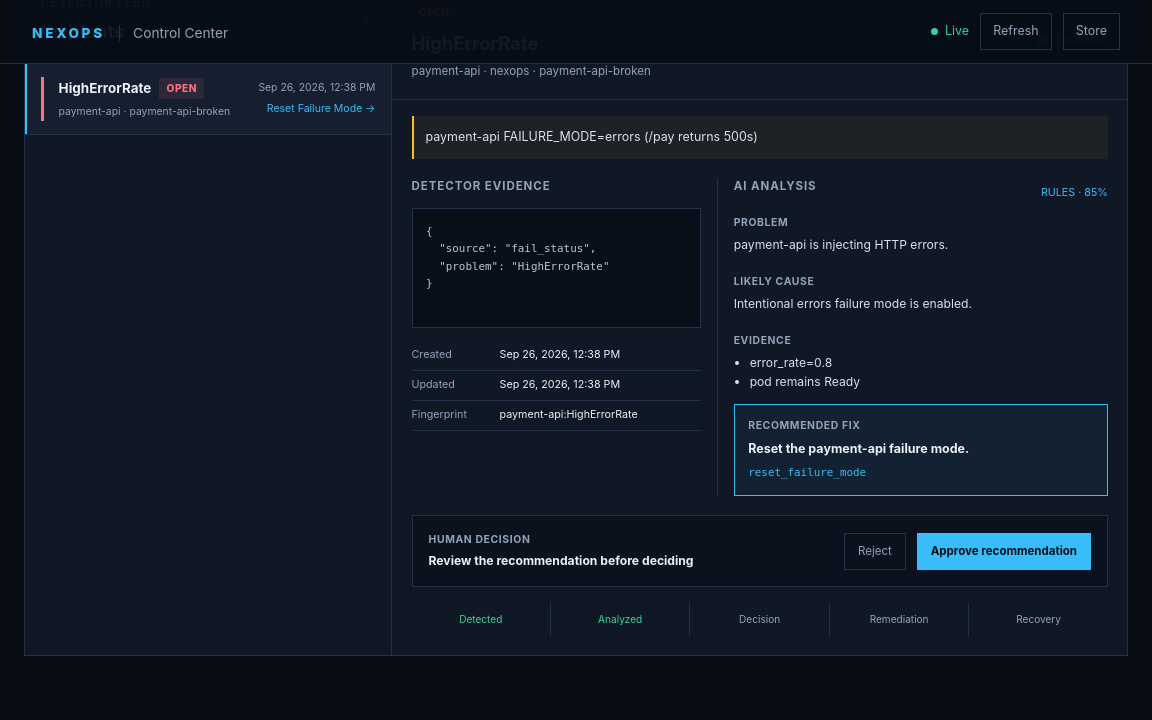
Test case: NexOps Control Center › joins analysis by incident id and shows Ready-but-failing incidents
(page scrolled)
Expected: the text "payment-api is injecting HTTP errors." is shown, [734,237,948,252]
Expected: the text "rules · 85%" is shown, [1041,185,1108,201]
Click the button "Approve recommendation" at (1004,551), box [917,533,1091,570]
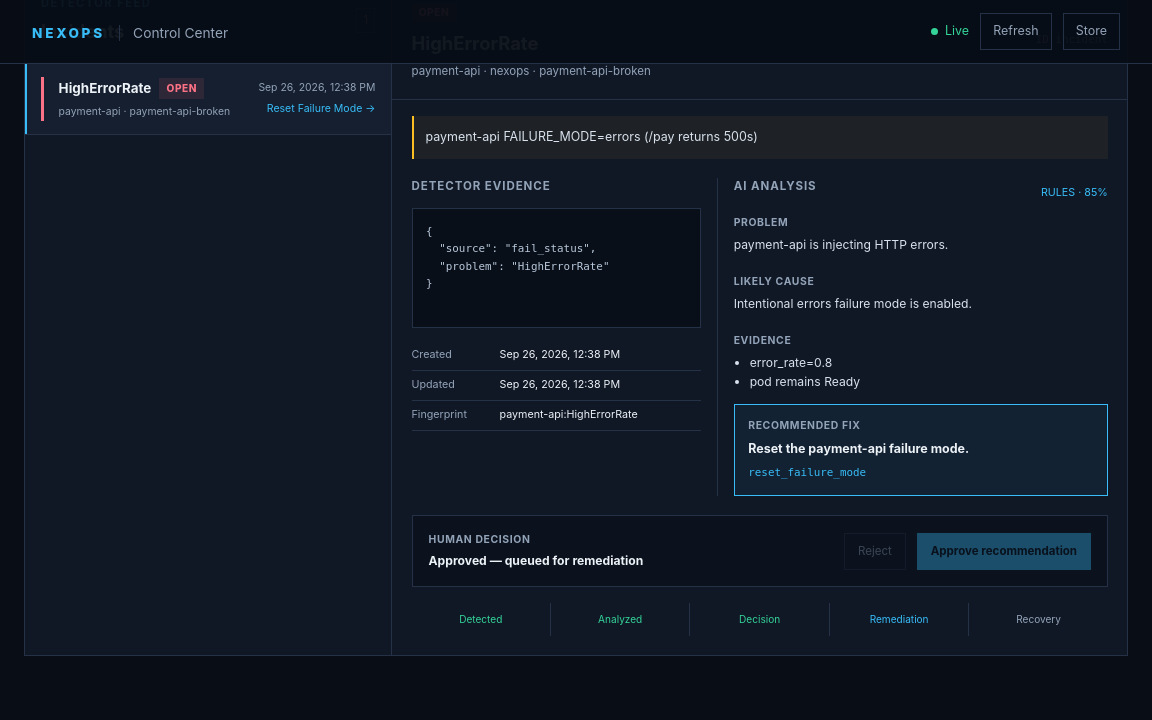
Expected: the text "Approved — queued for remediation" is shown, [428,552,643,570]
